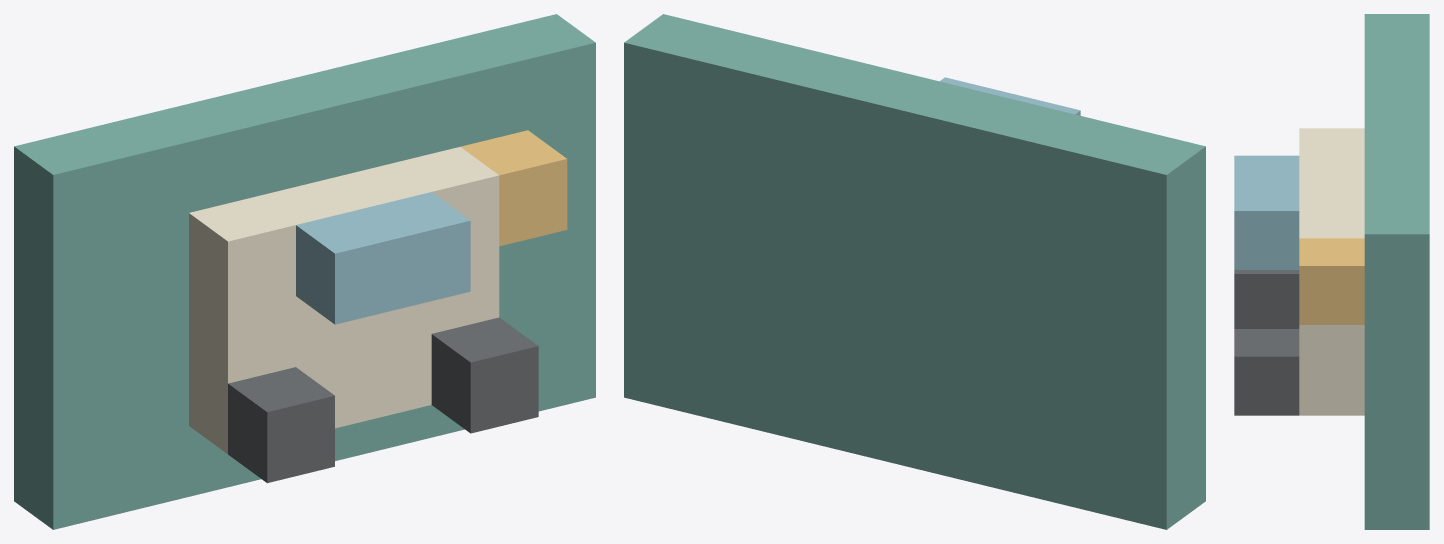
File: pocket-borough-transit-pass-pickup__298.glb
3 views of the same model, side by side, from view 1: azimuth 30°, elevation 25°; view 2: azimuth 150°, elevation 25°; view 3: azimuth 270°, elevation 25° (orthographic). The views are drawn at different scales.
Visible parts, largest first — view 1: pocket-borough-transit-pass; view 2: pocket-borough-transit-pass; view 3: pocket-borough-transit-pass.
Part boxes in pixels (x1,y1,x2,y2): pocket-borough-transit-pass: [14, 14, 595, 529]; pocket-borough-transit-pass: [624, 14, 1205, 529]; pocket-borough-transit-pass: [1234, 14, 1429, 529].
Bounding box in the file's own units: 1 × 0.625 × 0.375.
